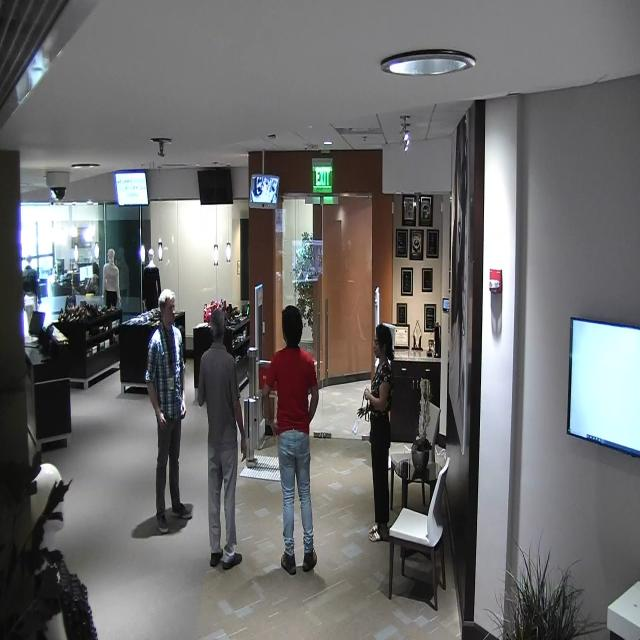normal: (262, 297, 326, 583), (196, 291, 250, 578), (146, 291, 196, 538), (354, 322, 398, 552)
